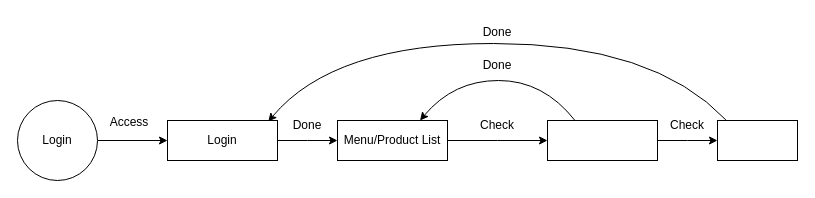
The diagram is 815 pixels wide and 198 high, and some of its shapes have lost their labels. Each missing label, with the centre of its shape:
Account Details: the point at 602,140
Sign out: the point at 757,140
